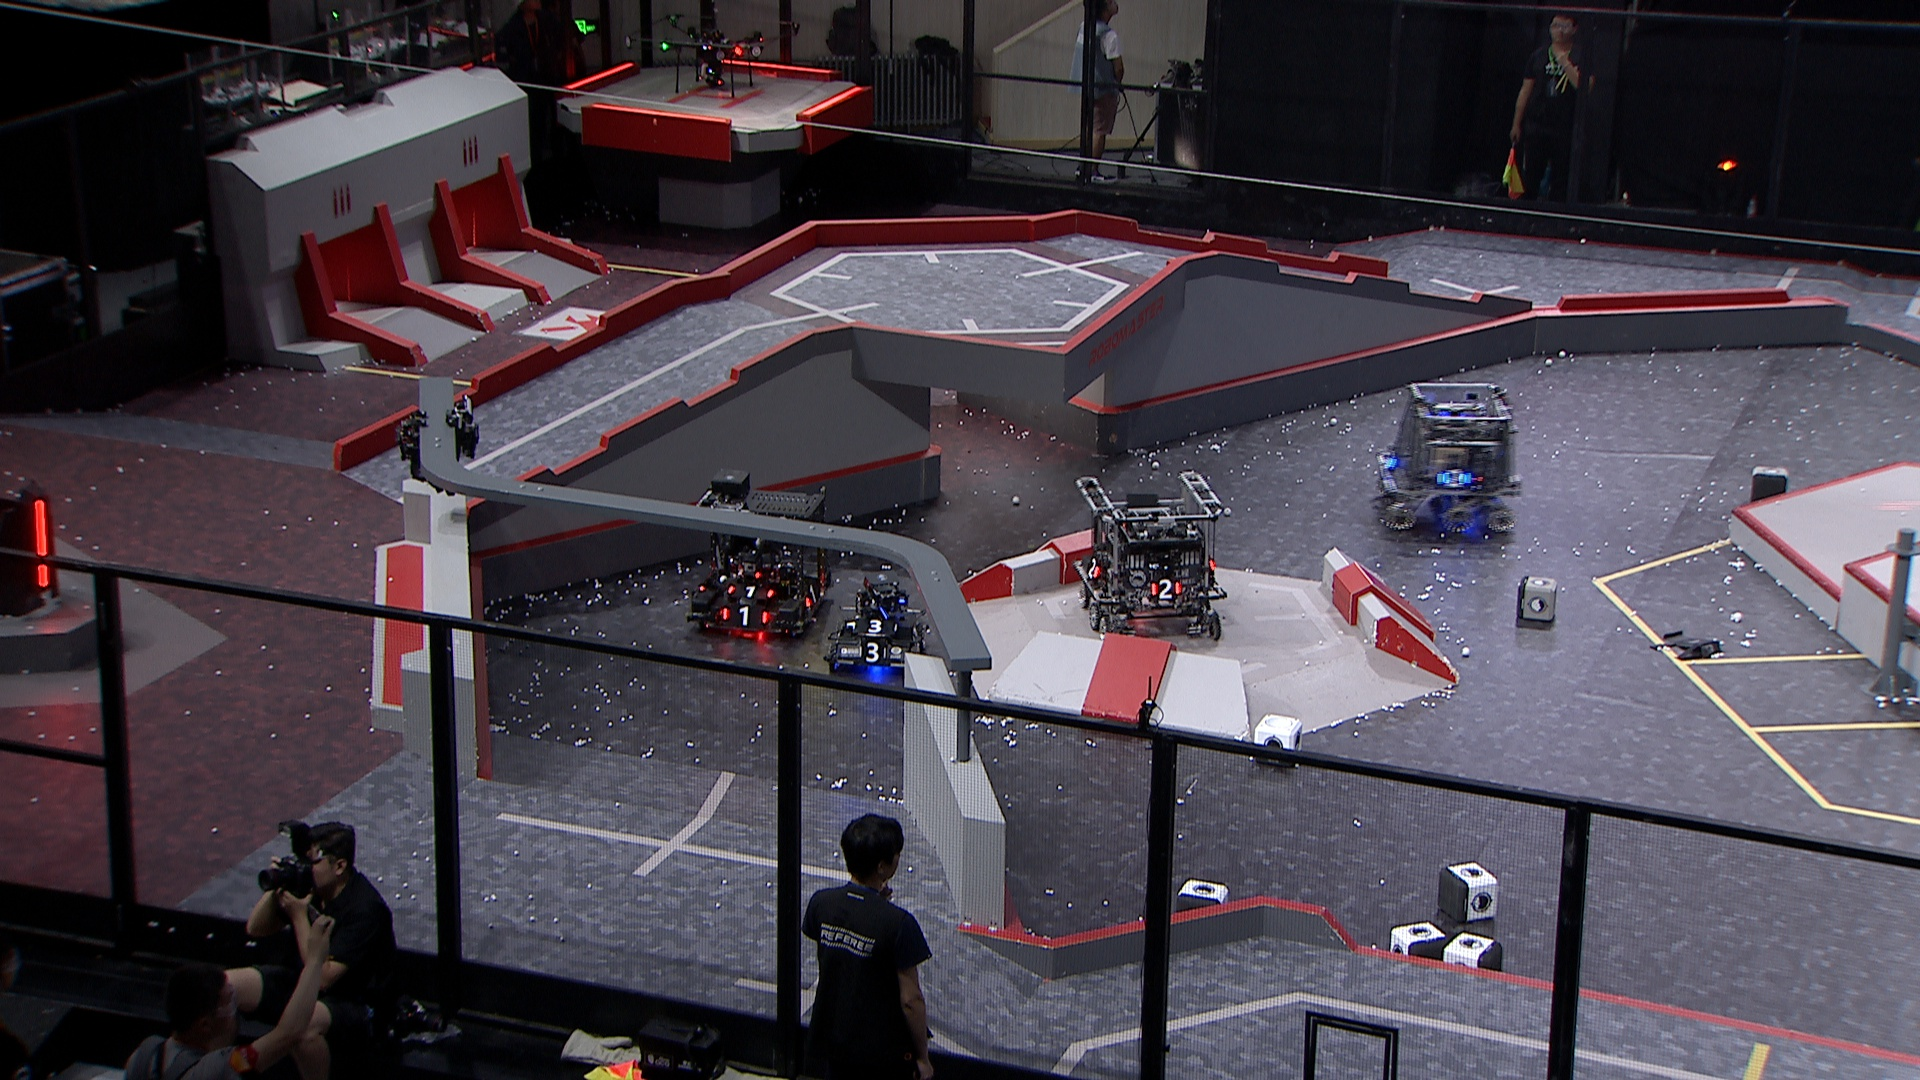armor: (26, 498, 55, 589), (717, 604, 770, 626), (724, 583, 778, 603), (1433, 465, 1474, 491), (851, 618, 899, 638), (1147, 576, 1183, 600), (855, 640, 887, 665), (1378, 447, 1400, 472), (802, 585, 822, 609), (1087, 556, 1101, 580)
car: (1067, 471, 1229, 640), (680, 487, 839, 642), (1371, 382, 1523, 541), (822, 568, 928, 676)
watcher: (396, 396, 480, 495)
